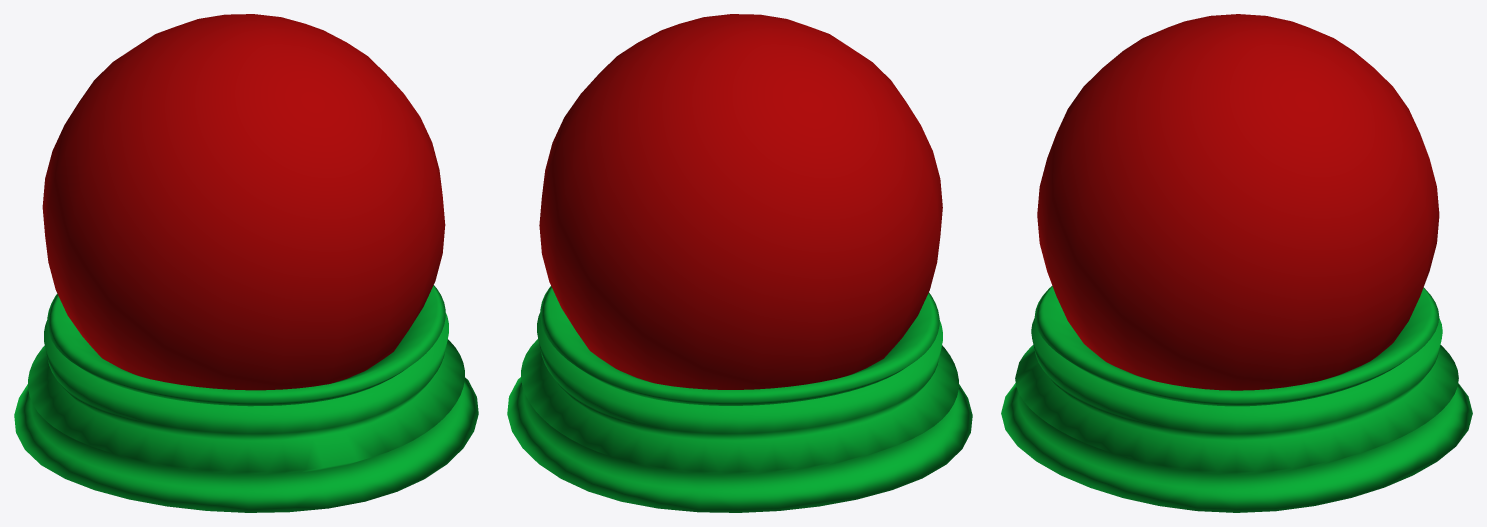
The model's file is CrystalBall.fbx.
The picture shows the model from 3 angles, left to right: view 1: azimuth 30°, elevation 25°; view 2: azimuth 150°, elevation 25°; view 3: azimuth 270°, elevation 25°; orthographic projection.
Visible parts, largest first — view 1: CrystalBall; view 2: CrystalBall; view 3: CrystalBall.
Part boxes in pixels (<box>): CrystalBall: <box>14,14,478,512</box>; CrystalBall: <box>507,14,972,512</box>; CrystalBall: <box>1001,14,1472,512</box>.
Bounding box in the file's own units: 65.69 × 59.66 × 65.69.
